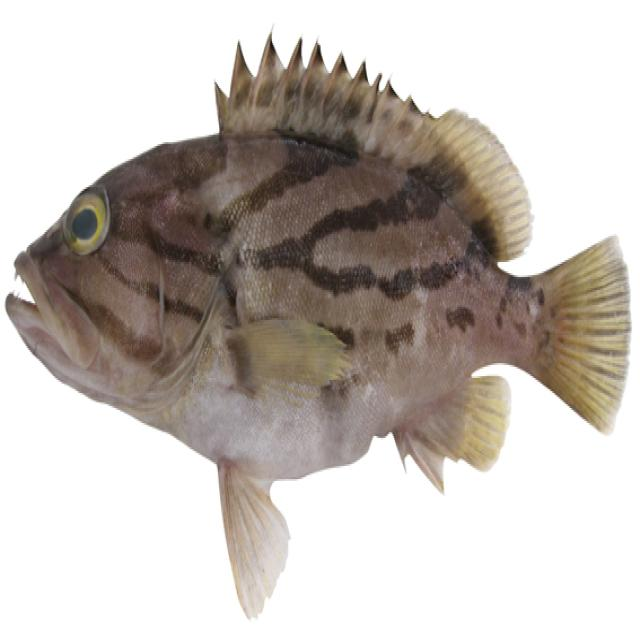ikan: (4, 26, 631, 620)
